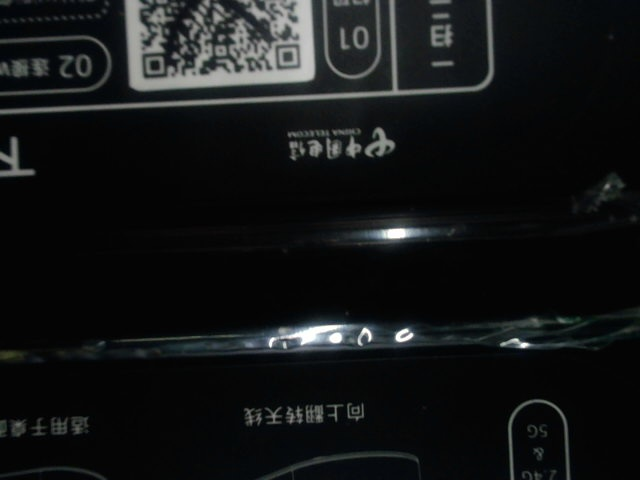AB_ChinaTelecom: (274, 118, 406, 165)
